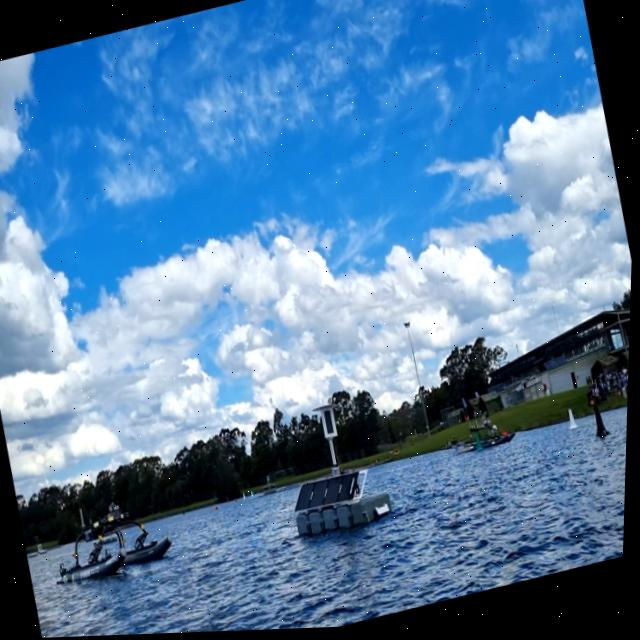led: (323, 409, 339, 439)
